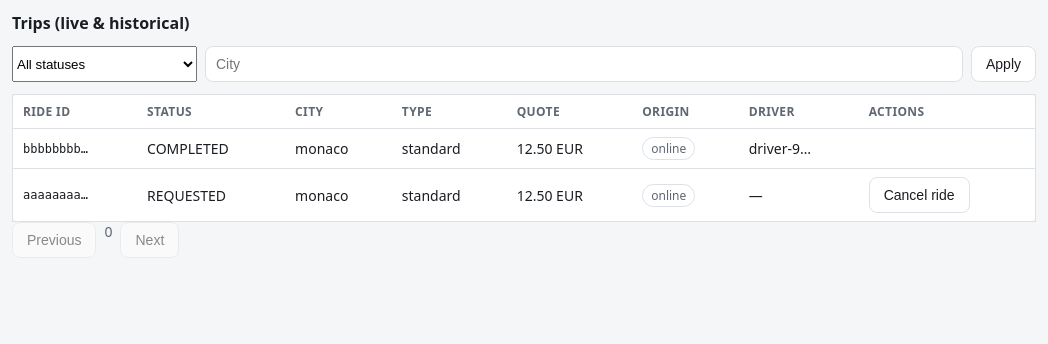
it: TripsPage (Phase 6 trips admin) › P7-5b ADMIN_OPS sees Cancel on the non-terminal row and cancel posts + refreshes
The width and height of the screenshot is (1048, 344).
Expected: the table with test id "trips-table" is shown, x1=12 y1=94 x2=1036 y2=222
Click the button "Cancel ride" at (919, 195), box x1=869 y1=177 x2=970 y2=213
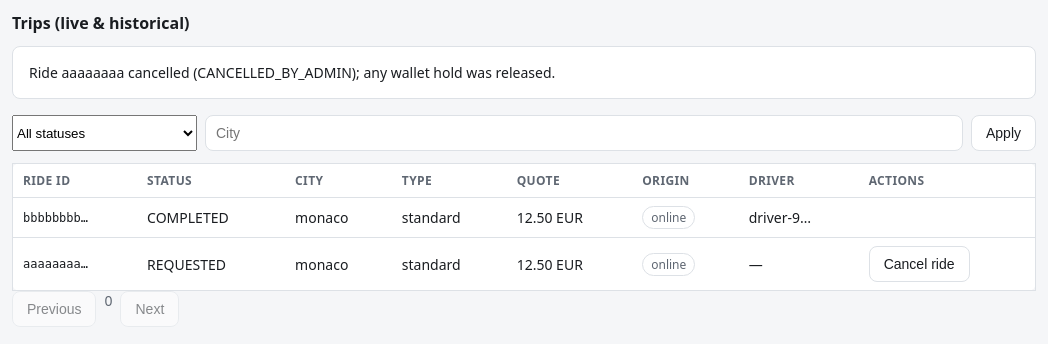
Expected: the message "Ride aaaaaaaa cancelled (CANCELLED_BY_ADMIN); any wallet hold was released." is shown, x1=12 y1=46 x2=1036 y2=99
Expected: the message with test id "trips-action-notice" shows "CANCELLED_BY_ADMIN", x1=29 y1=63 x2=555 y2=82
